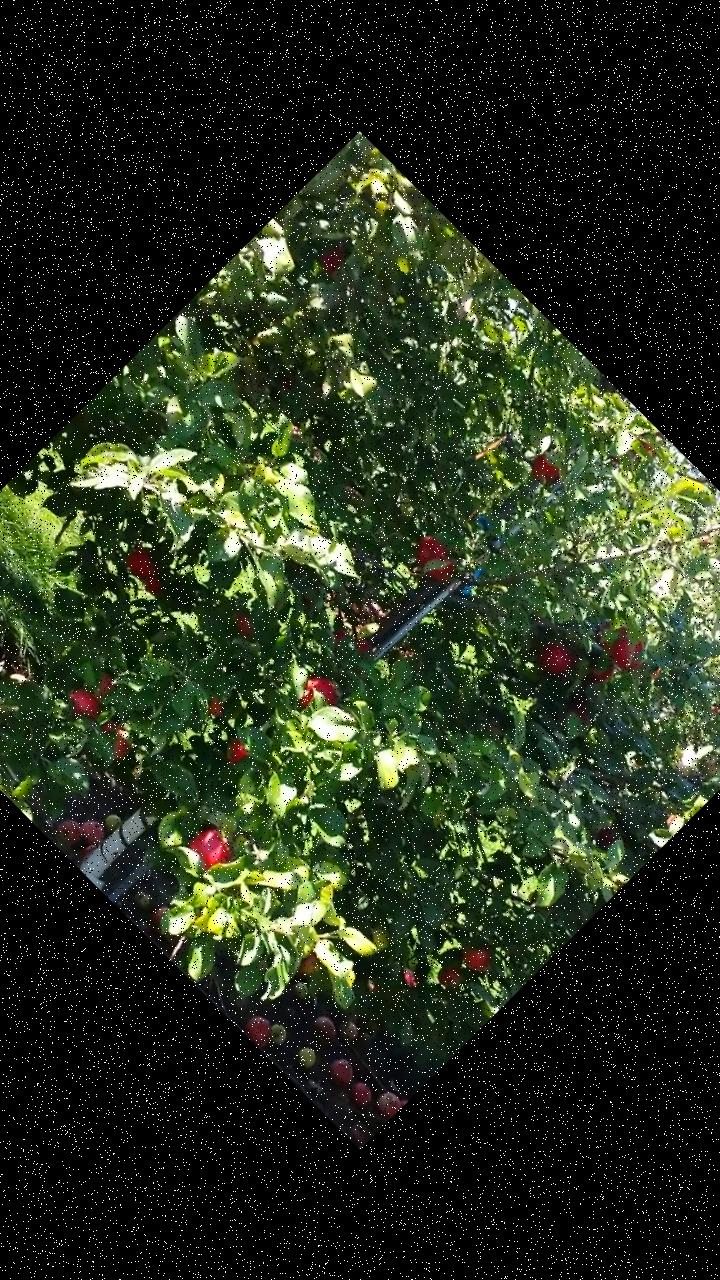Apple: (597, 618, 657, 678), (185, 820, 244, 880), (291, 664, 348, 721), (408, 531, 463, 586), (328, 620, 376, 668), (536, 636, 581, 681), (121, 542, 166, 586), (59, 684, 104, 728), (93, 717, 136, 760), (526, 454, 568, 496), (580, 654, 620, 694), (316, 239, 352, 276), (292, 950, 329, 986), (228, 608, 264, 644), (462, 940, 498, 975), (219, 736, 254, 770), (566, 694, 598, 726), (91, 667, 123, 699), (592, 823, 624, 854), (138, 570, 168, 601), (438, 962, 466, 991), (206, 694, 233, 720)
